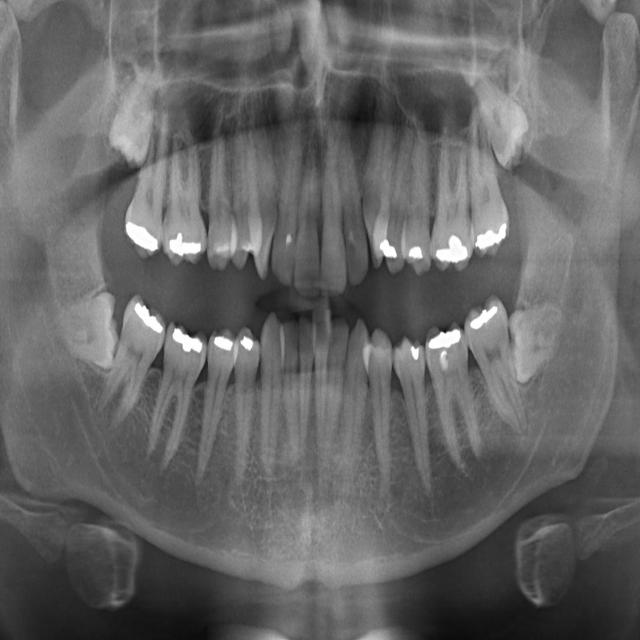AmalgamRestoration: (124, 217, 162, 256), (475, 218, 509, 256), (434, 231, 469, 267), (168, 230, 204, 261), (469, 298, 498, 334), (136, 298, 162, 335), (171, 325, 203, 355), (428, 327, 462, 352), (214, 328, 234, 353), (380, 236, 400, 258), (239, 334, 255, 354), (408, 242, 423, 262), (410, 344, 421, 361)
CompositeResinRestoration: (436, 352, 448, 375), (284, 226, 292, 247)
ImpactedTooth: (64, 272, 124, 373), (478, 72, 534, 165), (104, 76, 156, 165), (508, 304, 570, 375)
